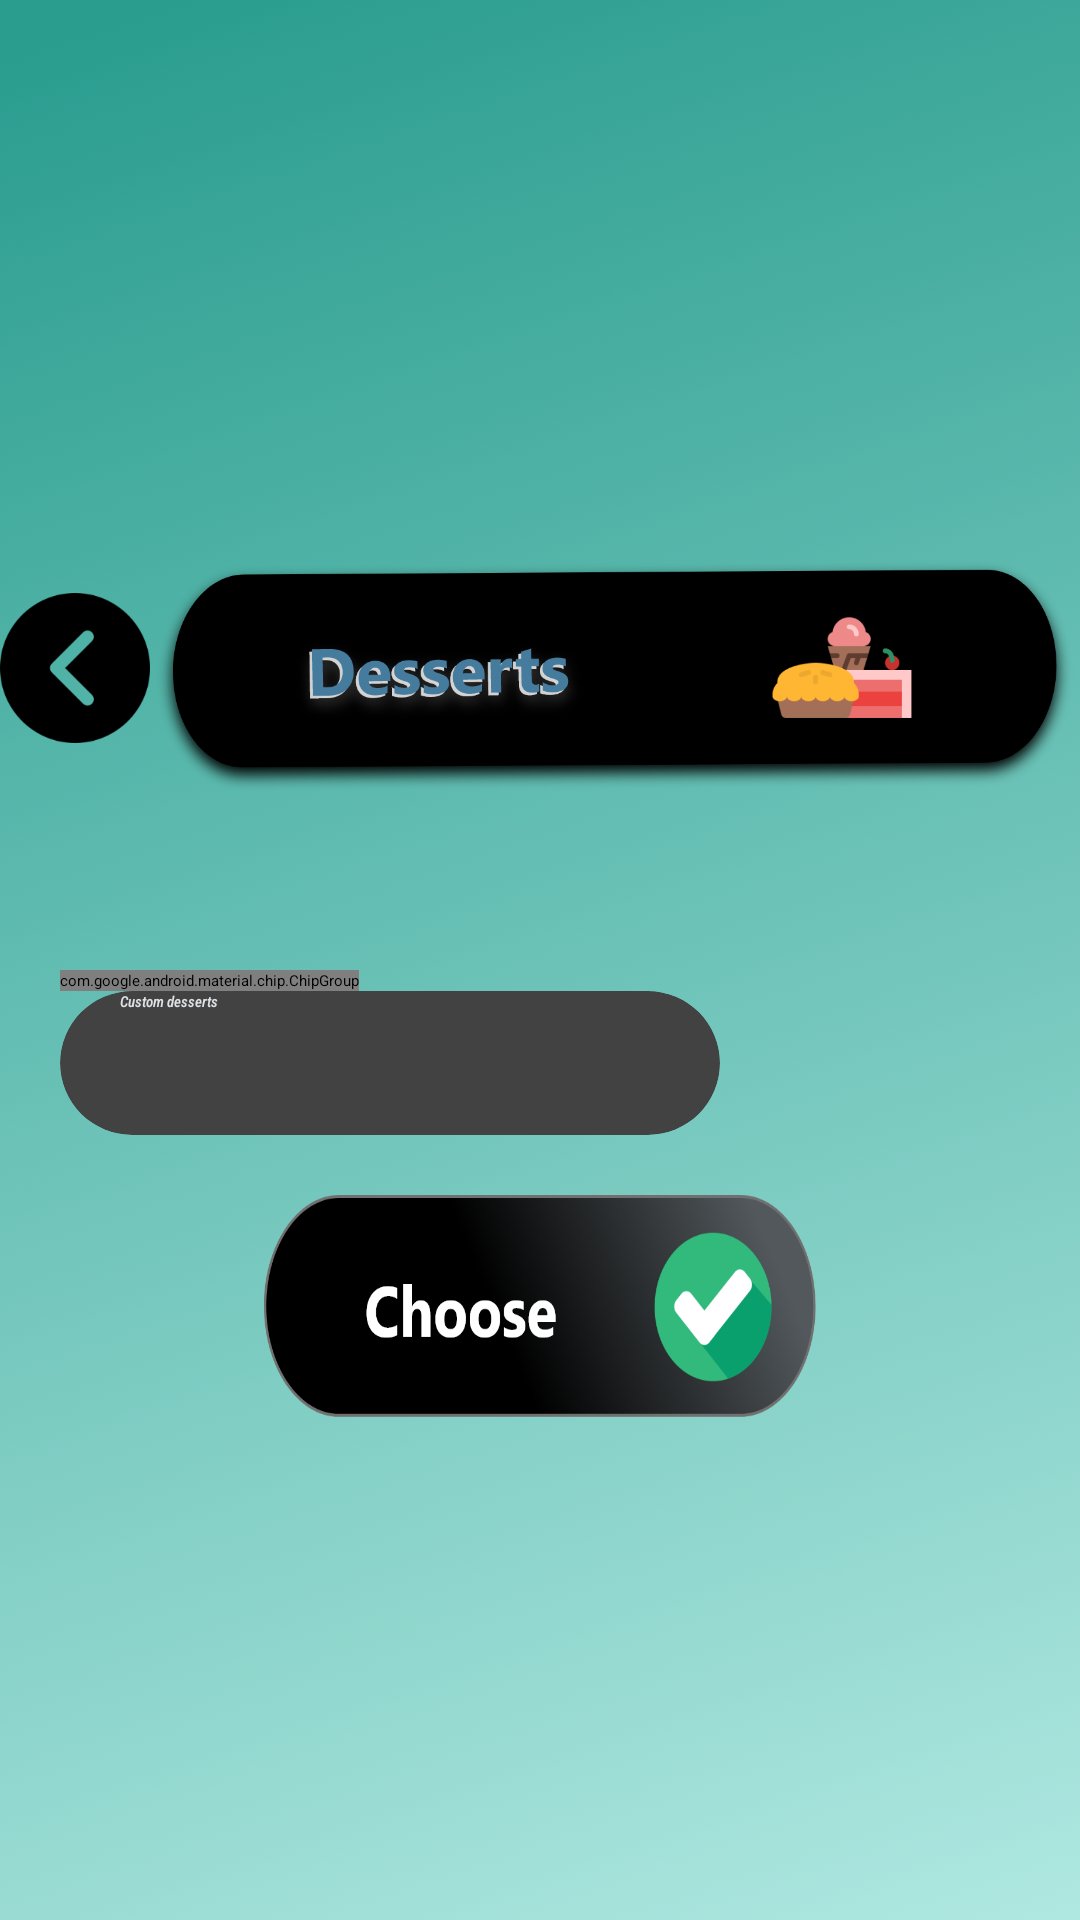

Where to tap for icons on this 1080*1920 app screen, as point (x, y):
previous: point (75, 668)
